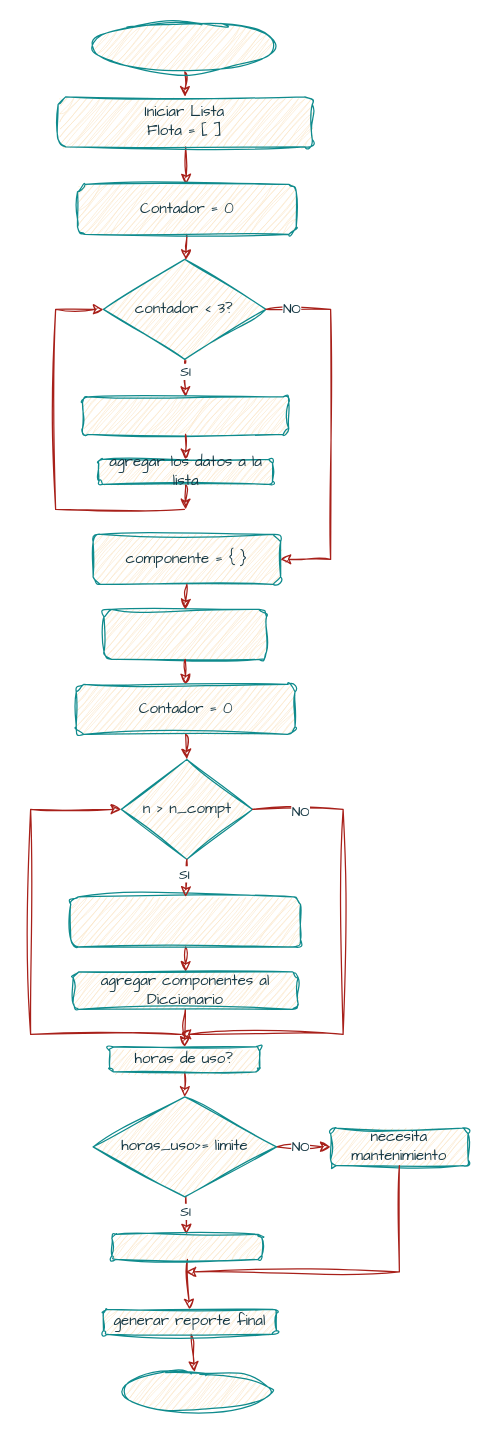
Image size: 490x1431. Some labels were removed from this diagram. The shapes that lost their labels are listed below. From the top down, each one's centre as x and y in pixels, then its label:
At [184,46]: "INICIO".
At [185,415]: "registrar datos de Aeronave".
At [184,633]: "numero de componentes".
At [185,921]: "registrar compomponentes".
At [186,1246]: "buen estado".
At [195,1390]: "FIN".
